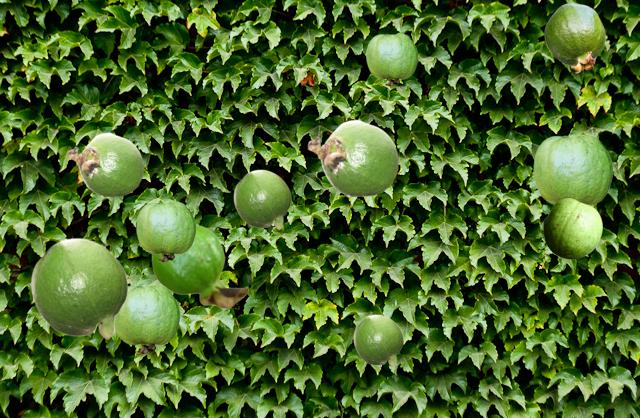guava: (30, 237, 127, 339), (151, 224, 248, 308), (307, 119, 398, 196), (533, 134, 612, 205), (67, 132, 143, 196), (115, 284, 179, 353), (544, 3, 604, 72), (136, 201, 195, 261), (543, 198, 601, 258), (233, 169, 290, 229), (366, 33, 417, 85), (353, 314, 402, 366)
